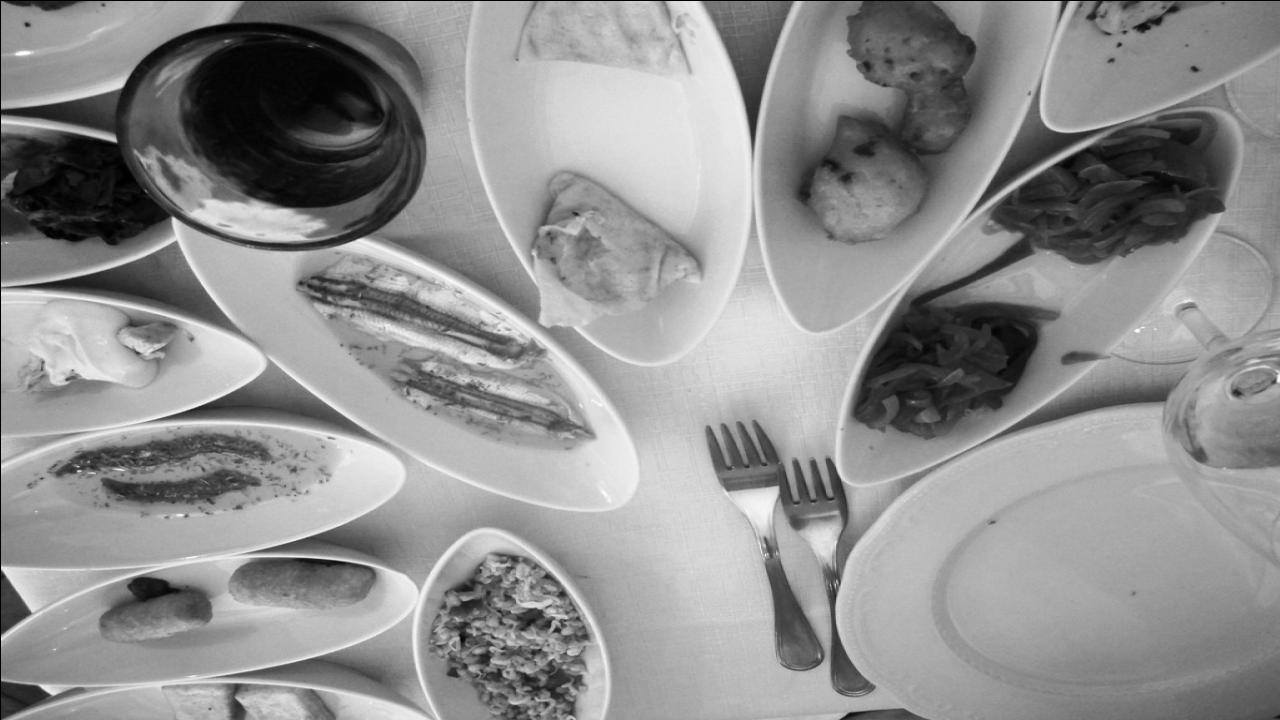fork: (700, 419, 831, 675), (773, 457, 879, 698)
